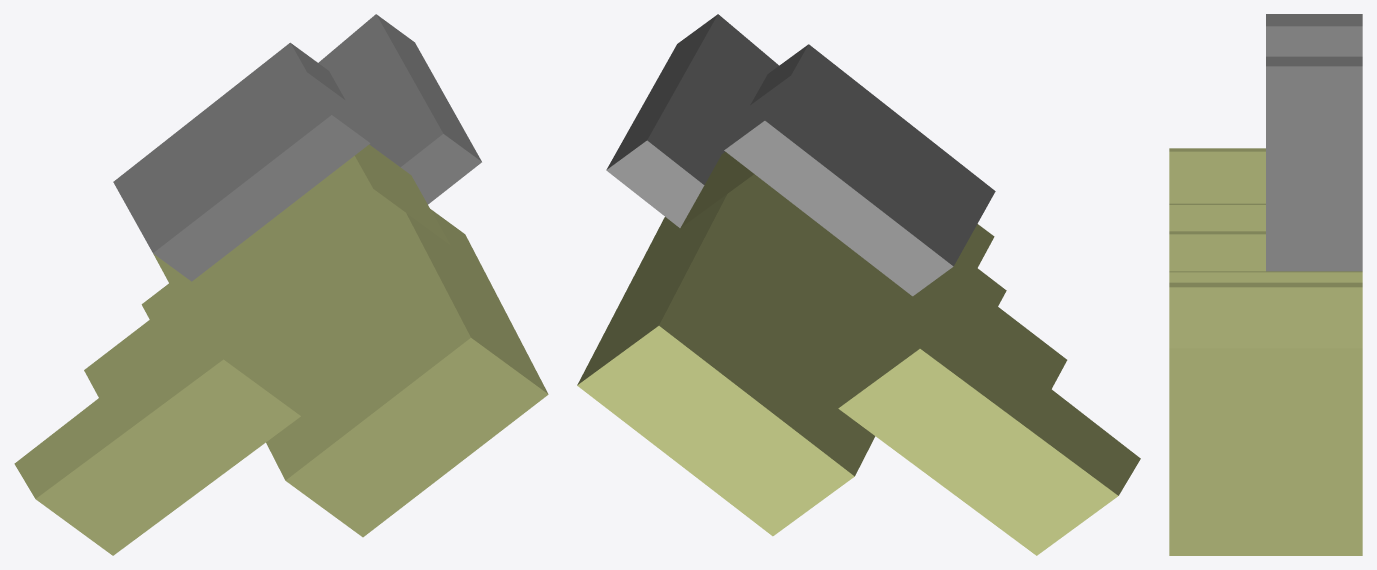
3 views of the same model, side by side, from view 1: azimuth 30°, elevation 25°; view 2: azimuth 150°, elevation 25°; view 3: azimuth 270°, elevation 25° (orthographic). The views are drawn at different scales.
Visible parts, largest first — view 1: 0_1_0_2_0_0_1_3_3_0; view 2: 0_1_0_2_0_0_1_3_3_0; view 3: 0_1_0_2_0_0_1_3_3_0.
Boxes of the visible parts, x1,y1,x2,y2 form: 0_1_0_2_0_0_1_3_3_0: (14,14,548,555); 0_1_0_2_0_0_1_3_3_0: (577,14,1140,555); 0_1_0_2_0_0_1_3_3_0: (1169,14,1362,555).
Size of the model in its own units: 20.38 by 18.96 by 6.
